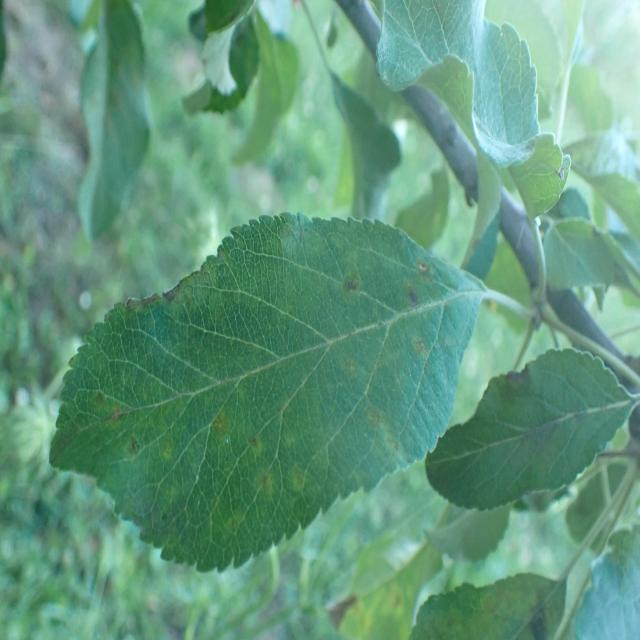scab: (74, 224, 476, 514)
